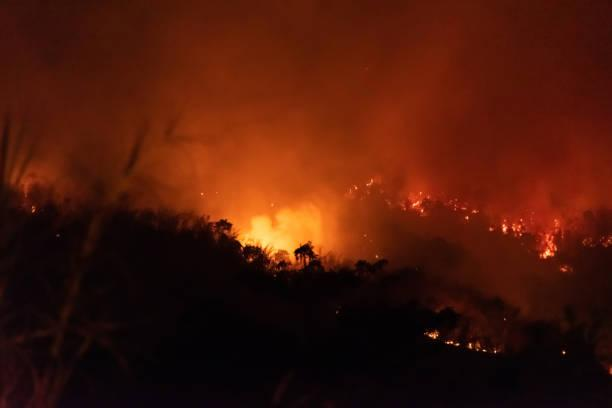Fire: (254, 209, 313, 261)
